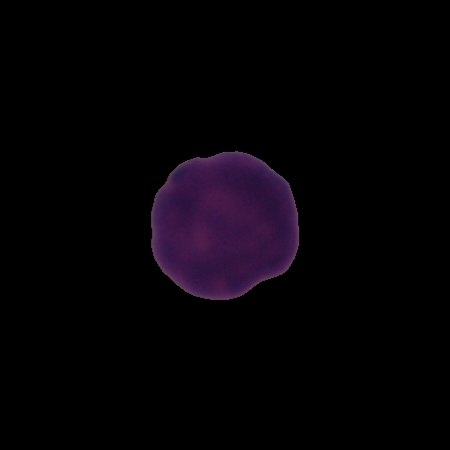HEM: (147, 147, 302, 303)
